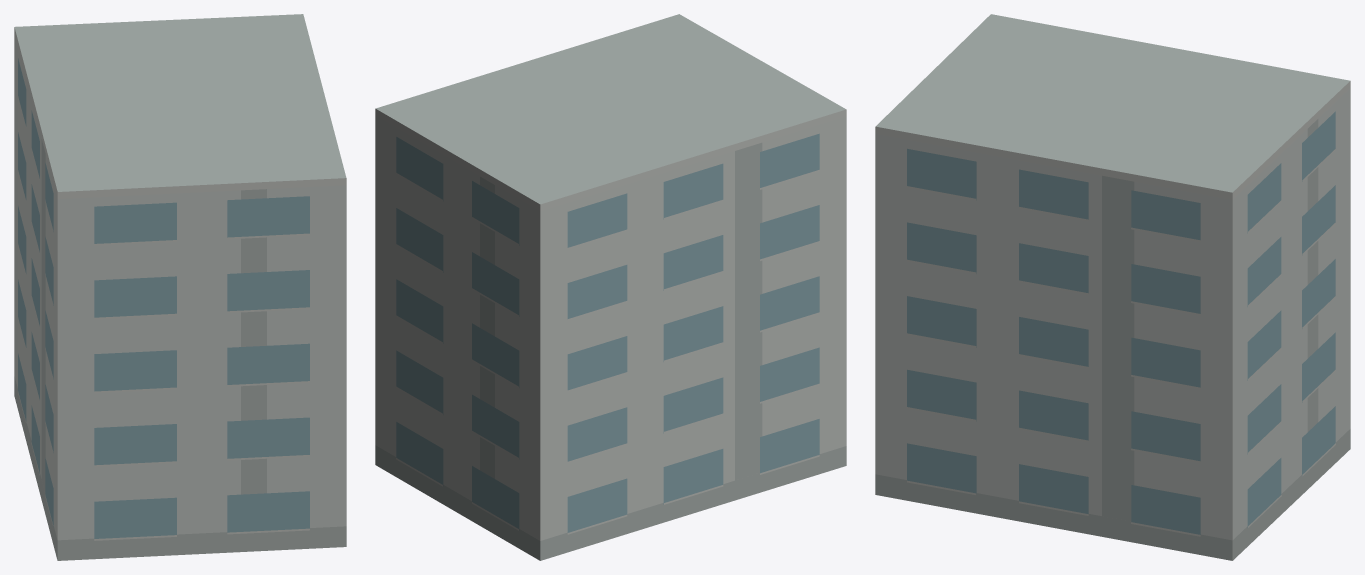
Rendered from survey-upis-32902290.glb.
3 renders of one model, left to right at view 1: azimuth 30°, elevation 25°; view 2: azimuth 150°, elevation 25°; view 3: azimuth 270°, elevation 25°, orthographic. The views are drawn at different scales.
Visible parts, largest first — view 1: survey-upis-32902290.tmp; view 2: survey-upis-32902290.tmp; view 3: survey-upis-32902290.tmp.
Boxes of the visible parts, <box> form: survey-upis-32902290.tmp: <box>14,14,346,560</box>; survey-upis-32902290.tmp: <box>375,14,846,560</box>; survey-upis-32902290.tmp: <box>875,14,1350,560</box>.
Bounding box in the file's own units: 12.96 × 12.45 × 14.57.
